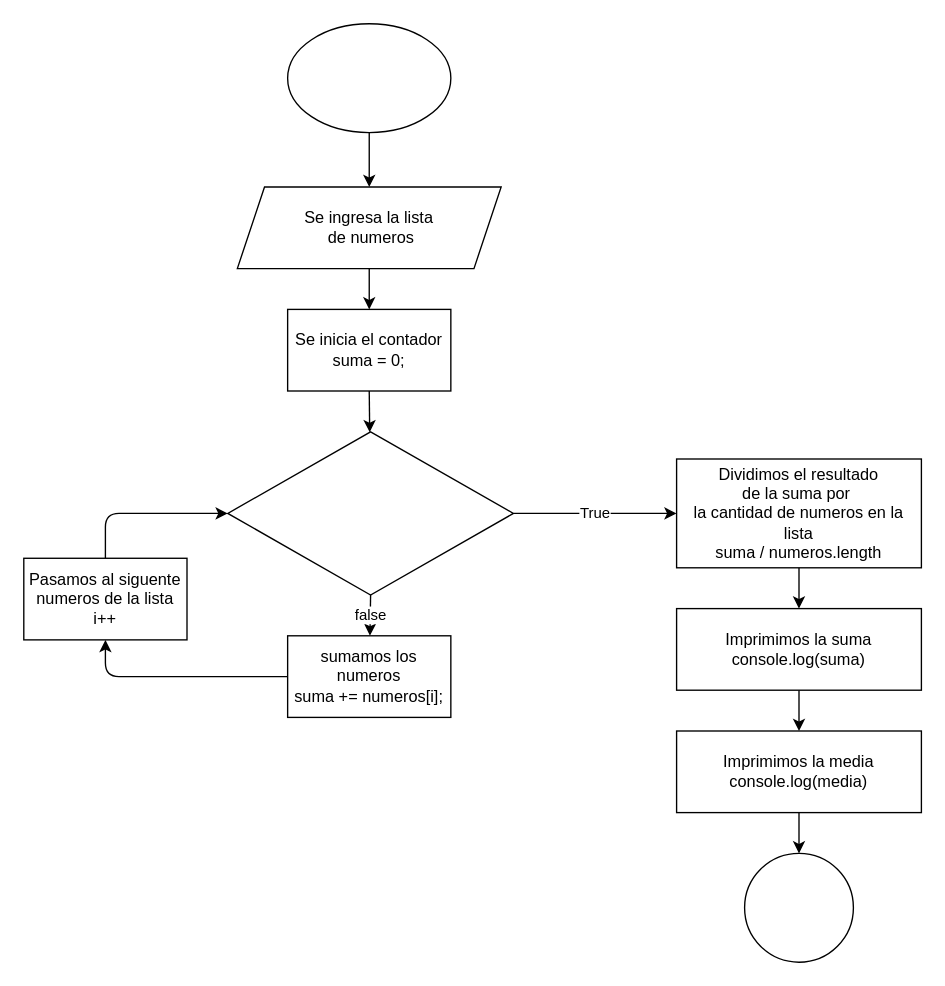
Some shapes in this 945 by 986 pixel diagram are drawn without their labels. Here are the shapes that lost their labels. From the top down, the centre of each, then its label:
the point at 368,77: Inicio
the point at 369,512: iteramos en la lista i < numeros.length
the point at 798,907: Fin
